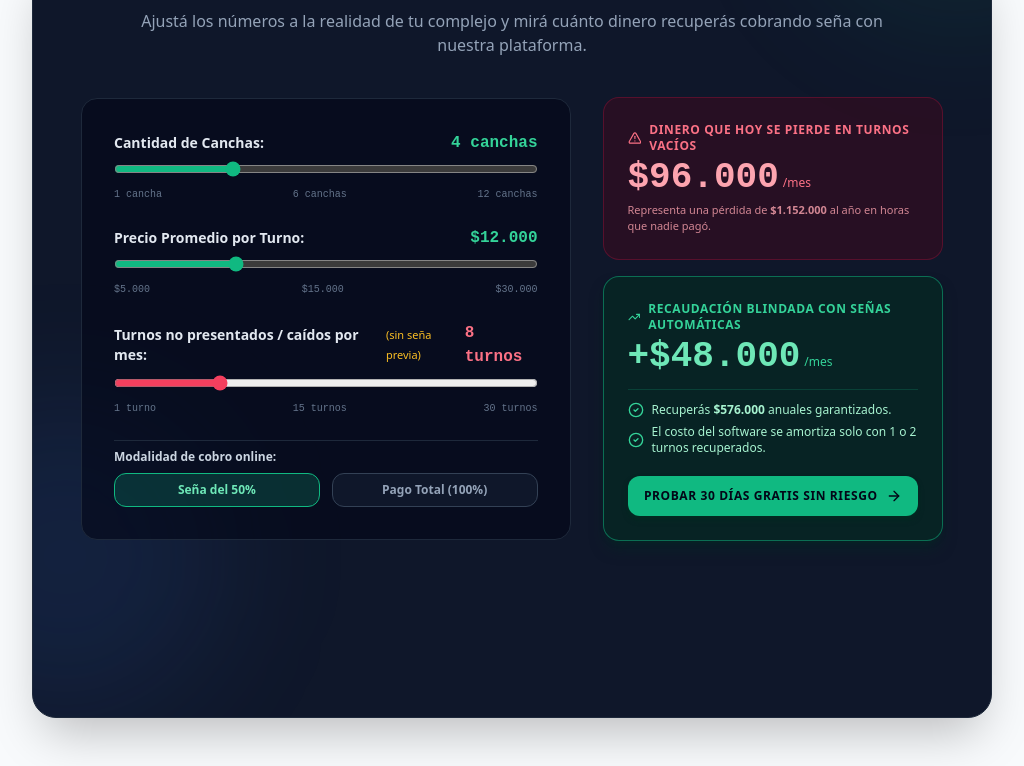
Landing Page Vendedora (PortalPage) › permite interactuar con la calculadora de ROI ajustando sliders y calcula pérdidas y recupero
The width and height of the screenshot is (1024, 766).
(page scrolled)
Expected: the slider labelled "Cantidad de Canchas:" holds "4", [114,164,538,172]
Expected: the slider labelled "Precio Promedio por Turno:" holds "12000", [114,260,538,268]
# Cambiamos los turnos caídos a 10
Set the slider labelled "Turnos no presentados / caídos por mes: (sin seña previa)" to "10": (248, 382) [114,378,538,386]
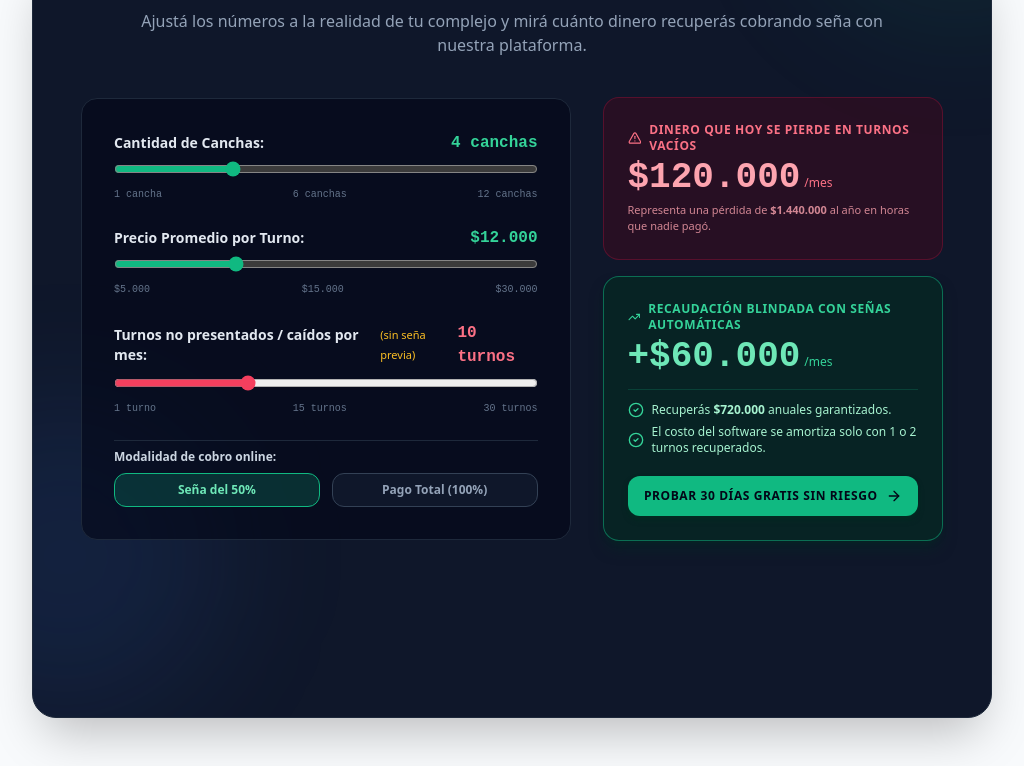
Expected: the text "$120.000" is shown, [628,156,832,198]
Expected: the text "+$60.000" is shown, [628,336,832,376]
# Alternar a cobro total 100%
Click the button "Pago Total (100%)": (435, 490) [332,472,538,506]
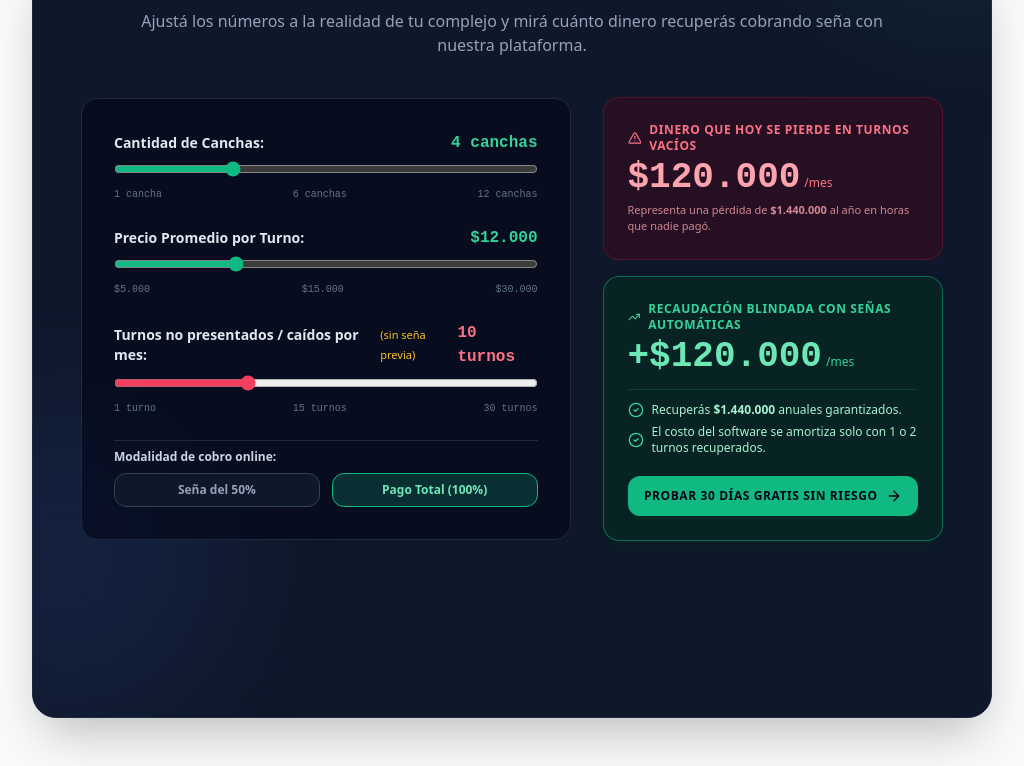
Expected: the text "+$120.000" is shown, [628,336,854,376]
